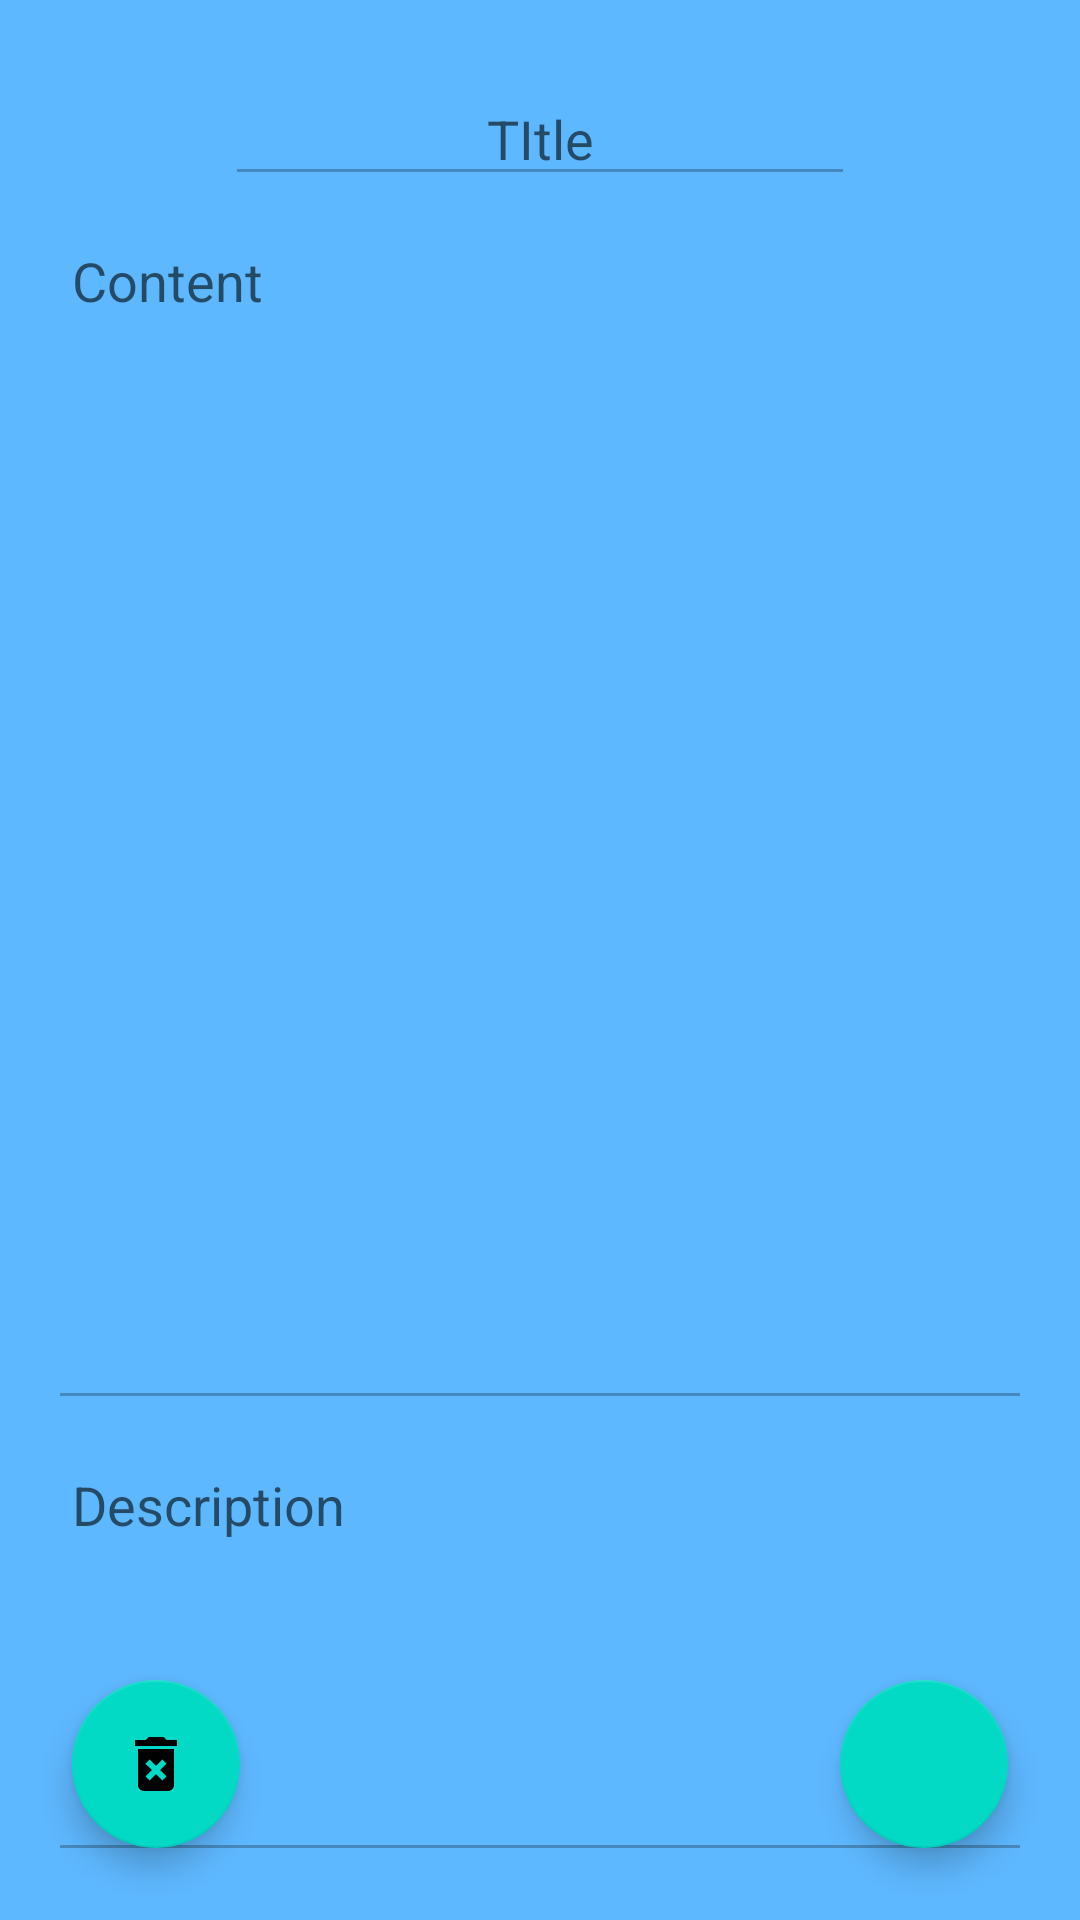

Locate icon controls on the screen. Image size 1080 × 1920, boxes as (x1, y1, x2, y2).
delete forever: (72, 1680, 240, 1848)
